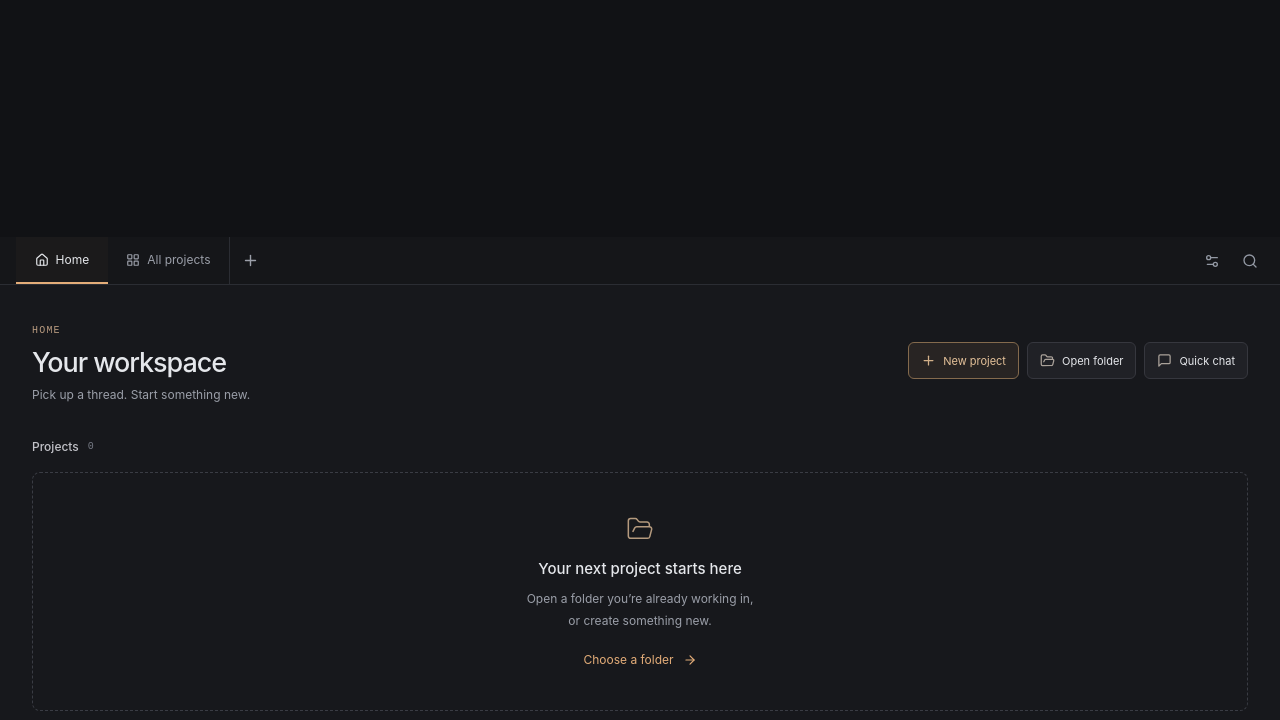
Home New project and Open folder select the correct setup mode without creating anything
The width and height of the screenshot is (1280, 720).
(page scrolled)
Click the button "New project" at [964, 360], box [908,342,1019,379]
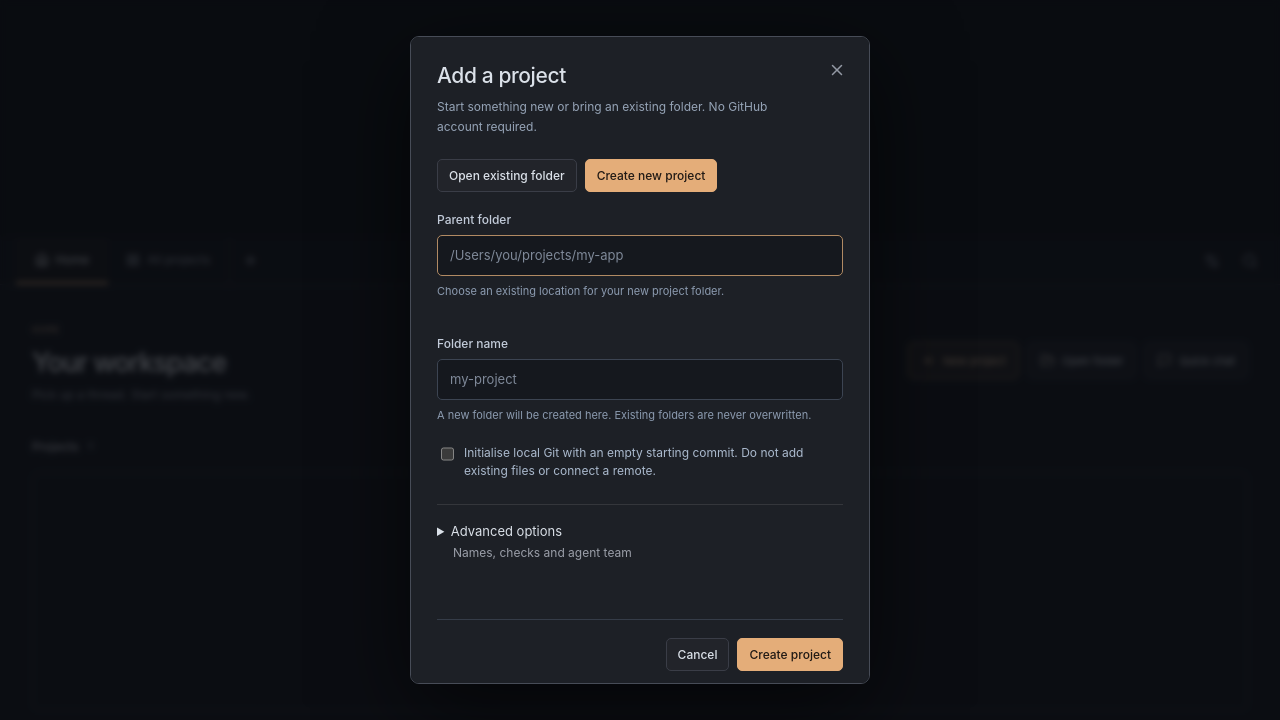
Result: the field labelled "Parent folder" is shown at [437,235,843,276]
Result: the field labelled "Folder name" is shown at [437,359,843,400]
Click the button "Cancel" at [698, 655], box [666,638,729,671]
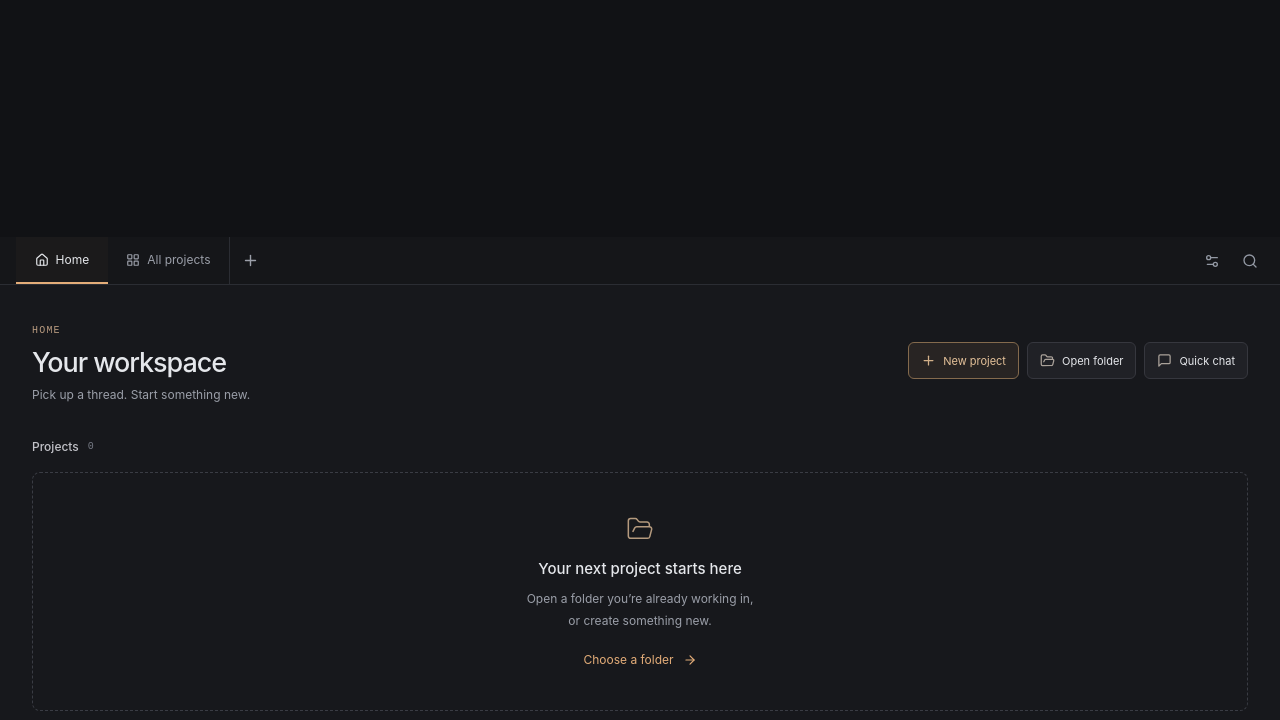
Click the button "Open folder" at [1082, 360], box [1027,342,1136,379]
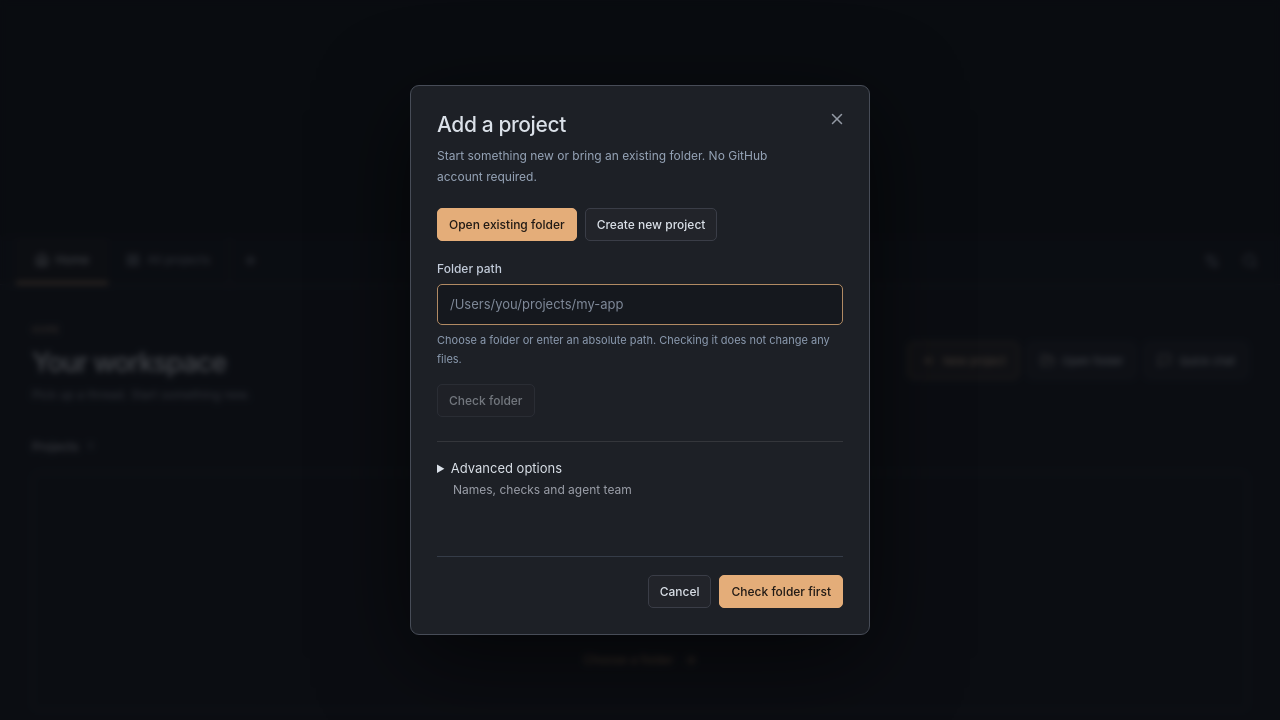
Expected: the text labelled "Parent folder" is not shown
Result: the field labelled "Folder path" is shown at [437,284,843,326]
